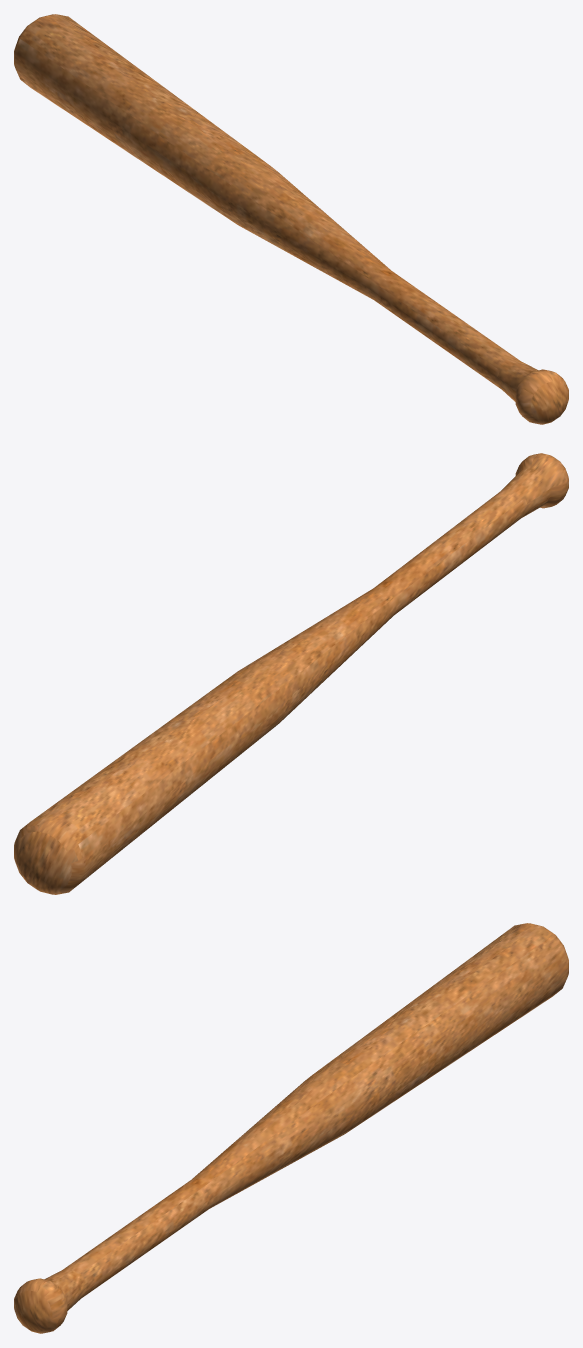
File: bateHmm.obj
3 views of the same model, one above another, from view 1: azimuth 30°, elevation 25°; view 2: azimuth 150°, elevation 25°; view 3: azimuth 330°, elevation 25° (orthographic).
Visible parts, largest first — view 1: Hmm; view 2: Hmm; view 3: Hmm.
Part boxes in pixels (left/top/right/bottom): Hmm: left=14, top=14, right=568, bottom=424; Hmm: left=14, top=453, right=568, bottom=894; Hmm: left=14, top=923, right=568, bottom=1333.
Bounding box in the file's own units: 4.58 × 4.89 × 59.42.
Materials: 1 (1 with a texture image).
